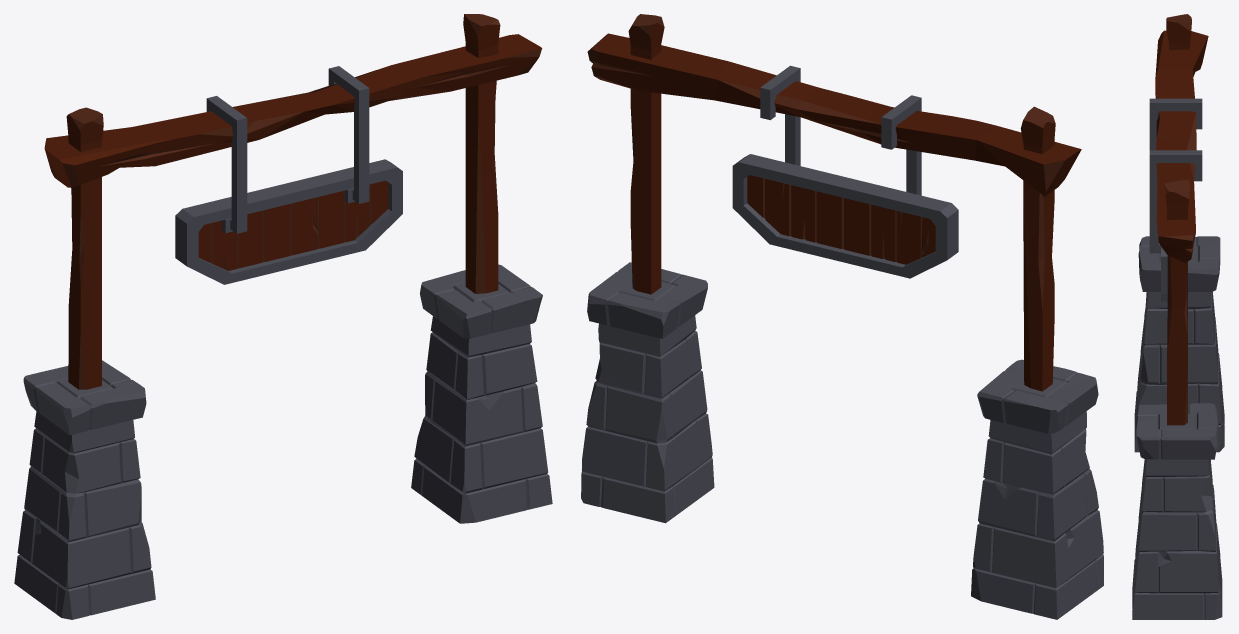
Rendered from Gate.001_1.fbx.
3 views of the same model, side by side, from view 1: azimuth 30°, elevation 25°; view 2: azimuth 150°, elevation 25°; view 3: azimuth 270°, elevation 25° (orthographic). The views are drawn at different scales.
Visible parts, largest first — view 1: Gate.001_1; view 2: Gate.001_1; view 3: Gate.001_1.
Boxes of the visible parts, bbox=[...] form: Gate.001_1: bbox=[14, 14, 552, 619]; Gate.001_1: bbox=[581, 14, 1103, 619]; Gate.001_1: bbox=[1132, 14, 1224, 619].
Bounding box in the file's own units: 129 × 120 × 24.09.
